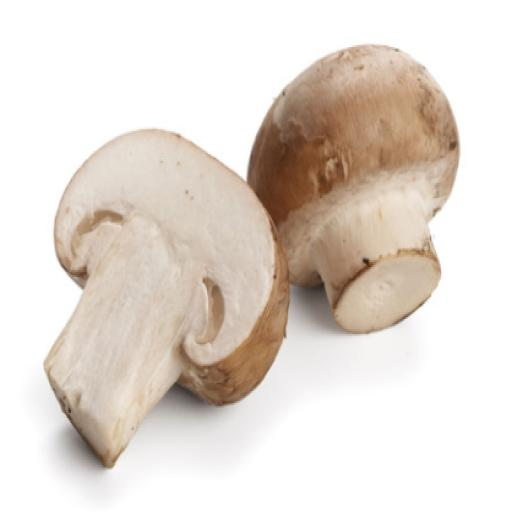Button Mushroom: (40, 122, 292, 470), (236, 38, 471, 347)
